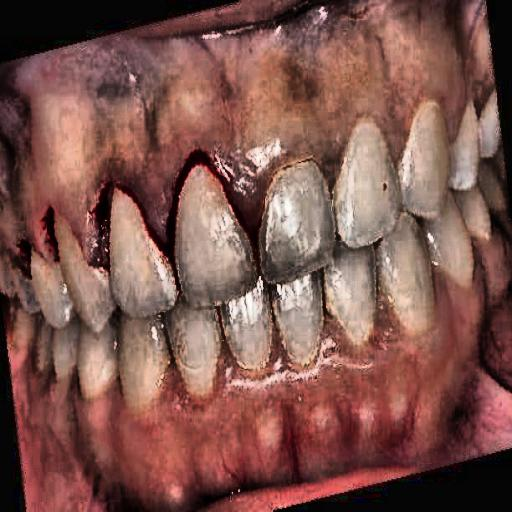Gingivitis: (9, 42, 288, 248)
